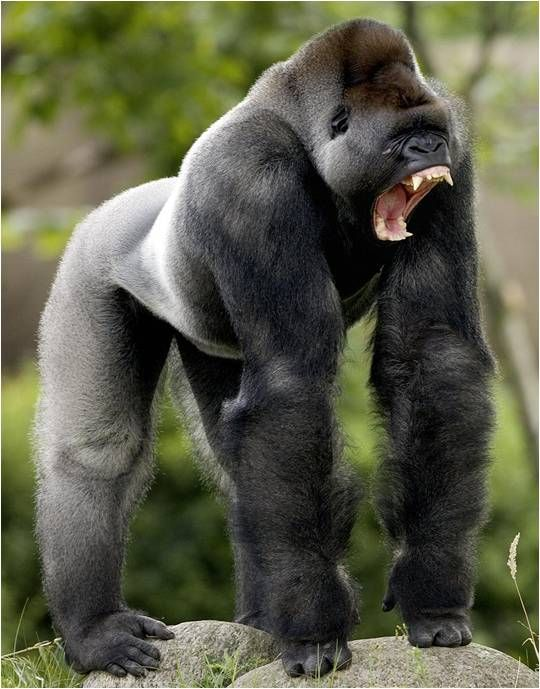Goriila: (16, 15, 526, 688)
